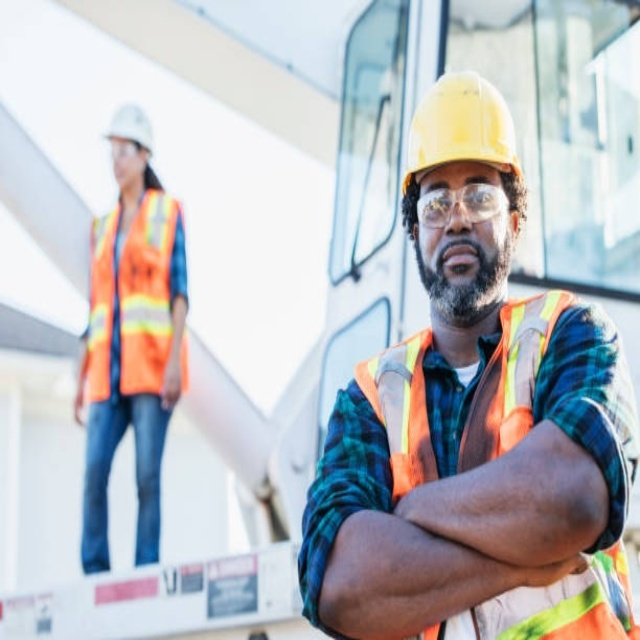Gafas: (416, 177, 508, 232)
Sin_mascara: (431, 235, 489, 293)
